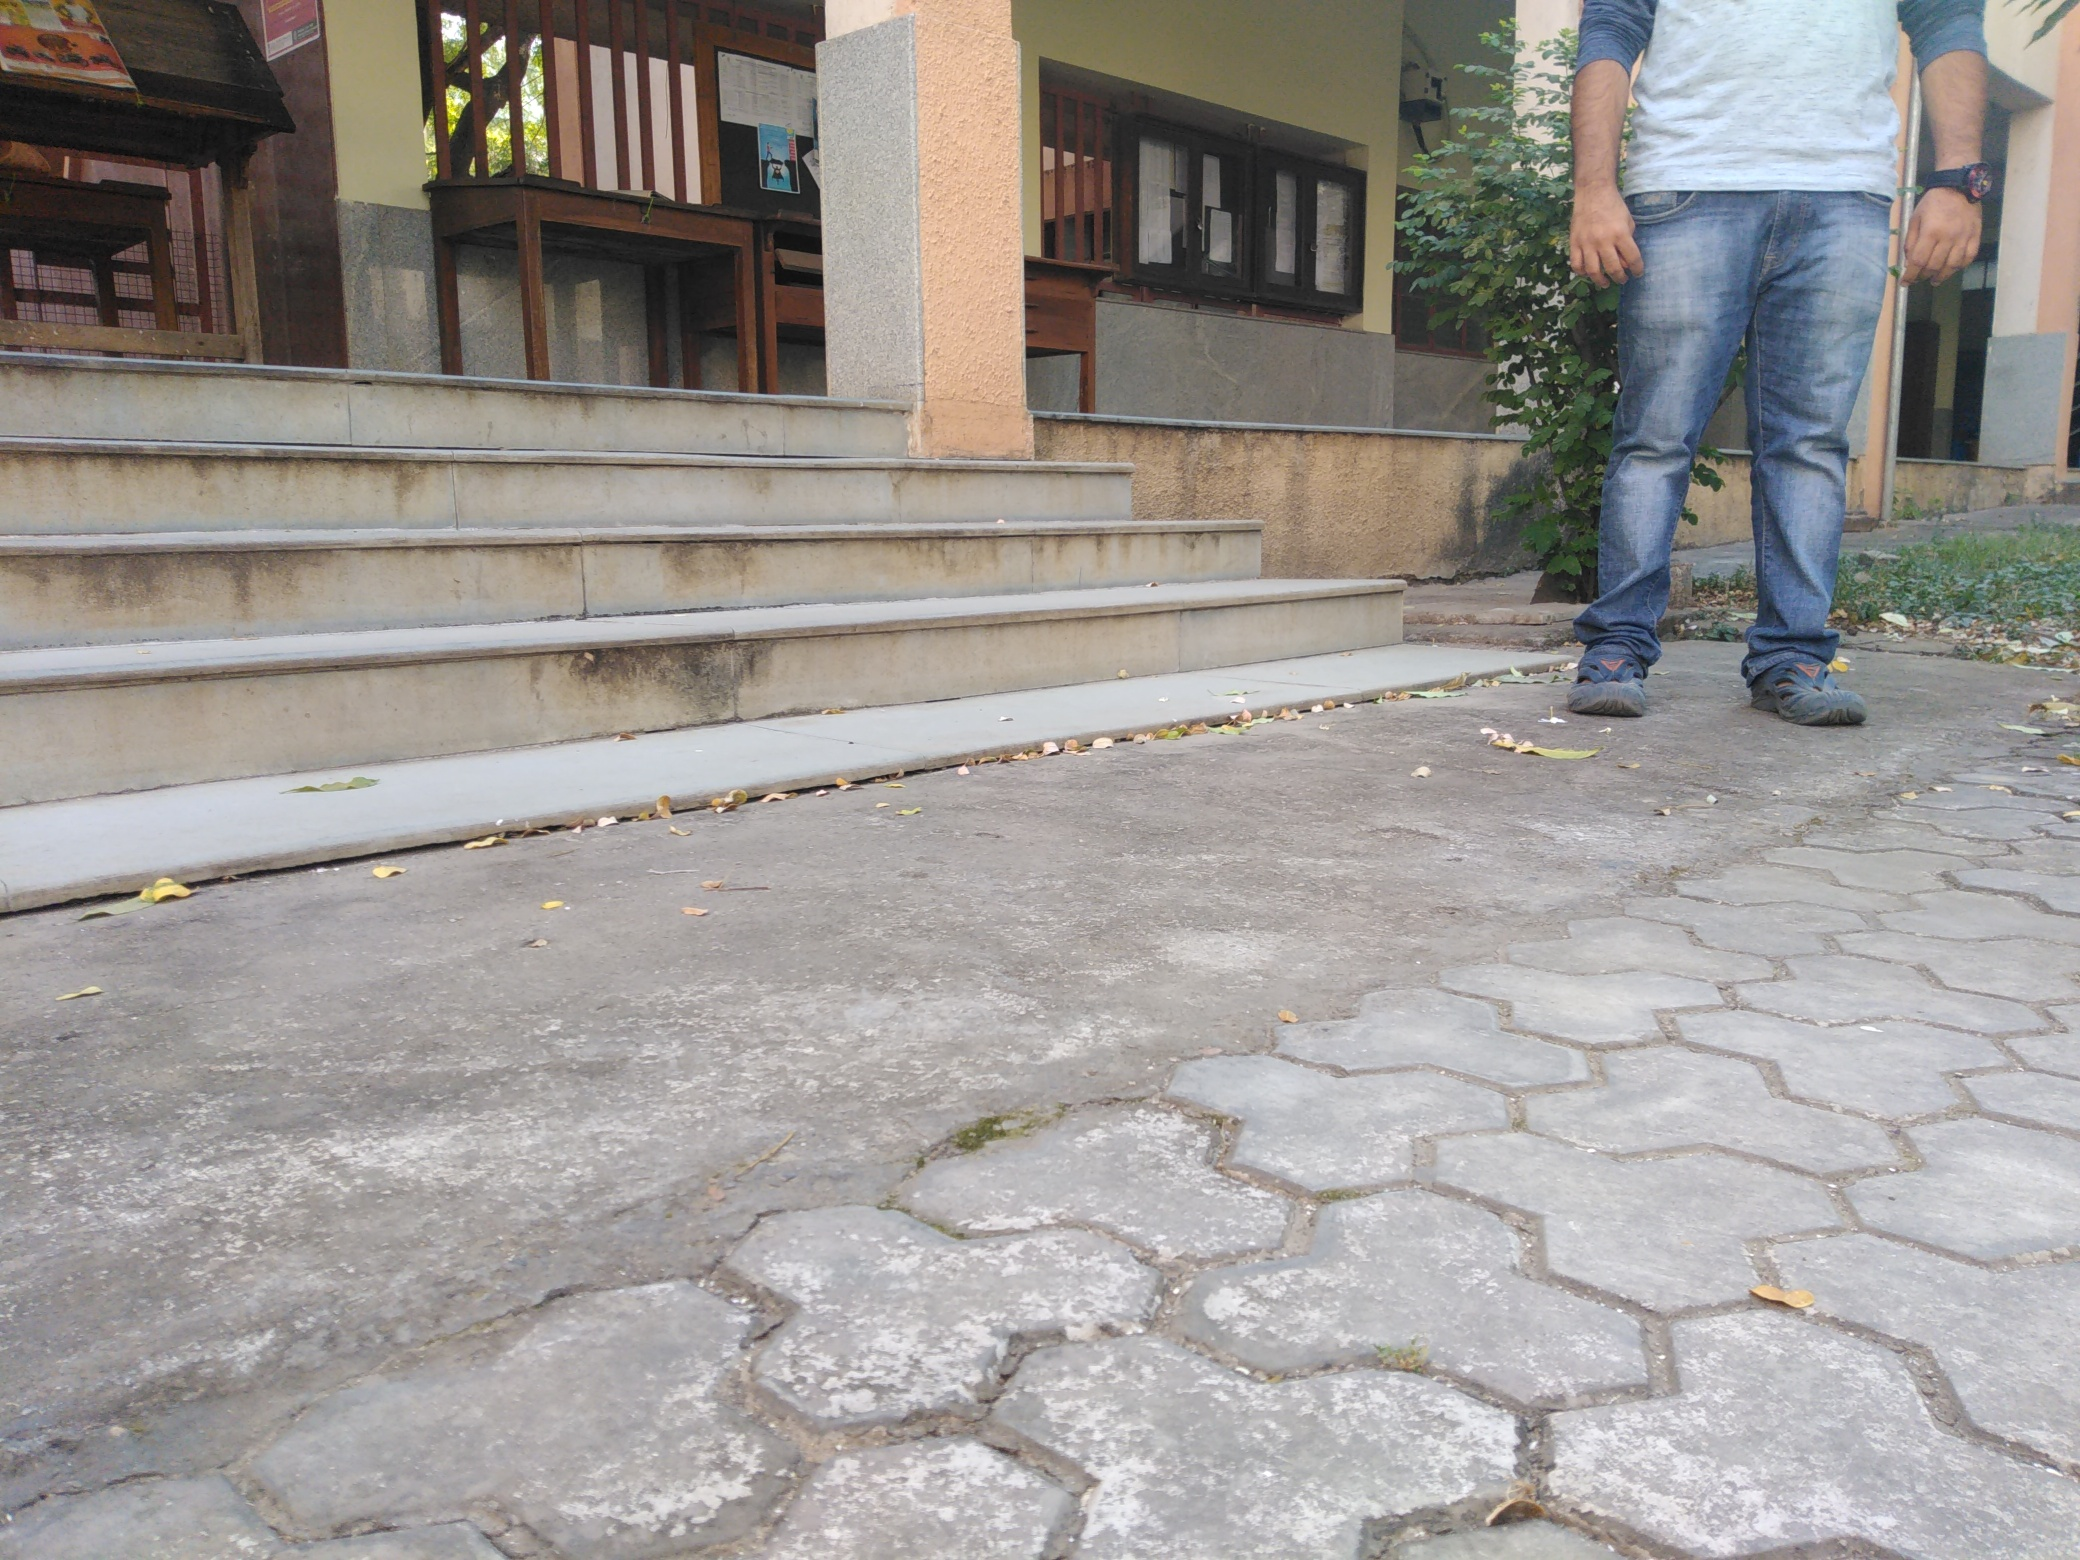stairs_up: (11, 324, 1322, 746)
